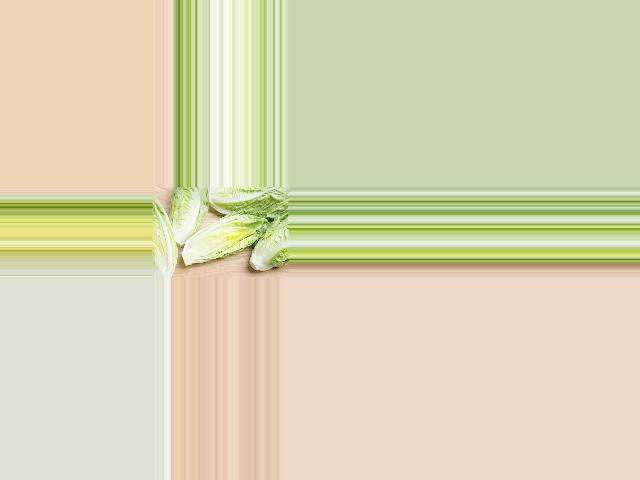lettuce: (151, 197, 179, 275)
